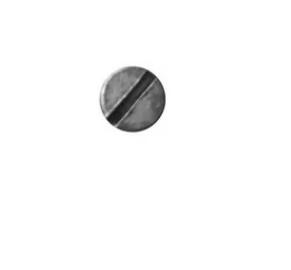screw: (98, 62, 167, 133)
